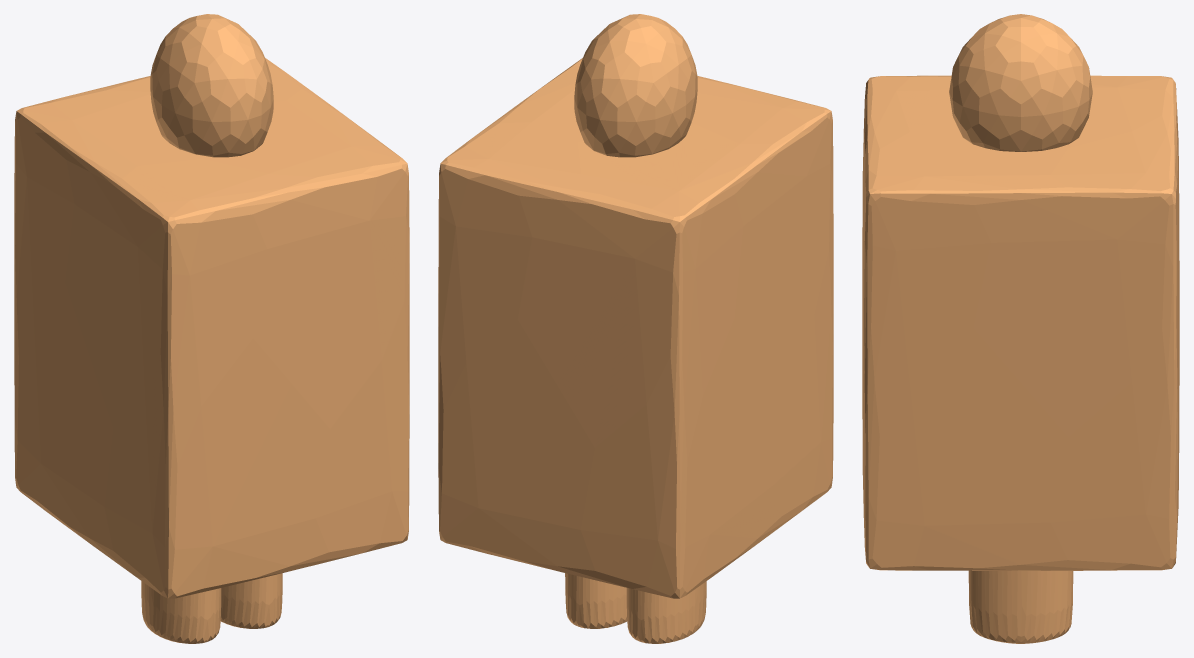
Rendered from hero10.glb.
3 views of the same model, side by side, from view 1: azimuth 30°, elevation 25°; view 2: azimuth 150°, elevation 25°; view 3: azimuth 270°, elevation 25° (orthographic).
Parts seen in each view (by area): view 1: hero10; view 2: hero10; view 3: hero10.
Boxes of the visible parts, <box> form: hero10: <box>14,14,409,643</box>; hero10: <box>438,14,833,643</box>; hero10: <box>862,14,1179,643</box>.
Bounding box in the file's own units: 0.7995 × 1.87 × 0.8989.
